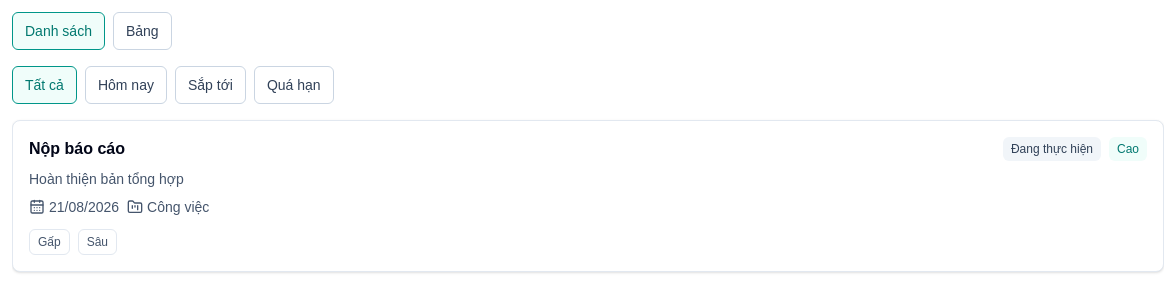
Test case: TaskViews › switches between list and table without rendering both views at once
Expected: the element "Nộp báo cáo" is shown, [12,120,1163,272]
Click the button "Bảng".
click(142, 31)  # box [113,12,172,50]
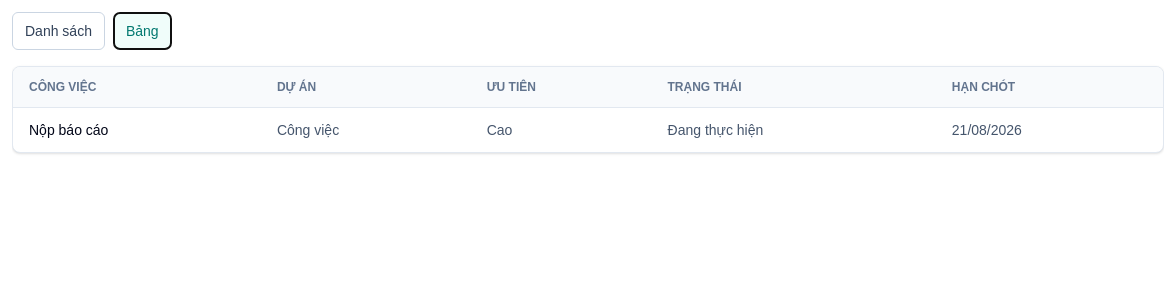
Result: the table is shown at [13,67,1163,152]
